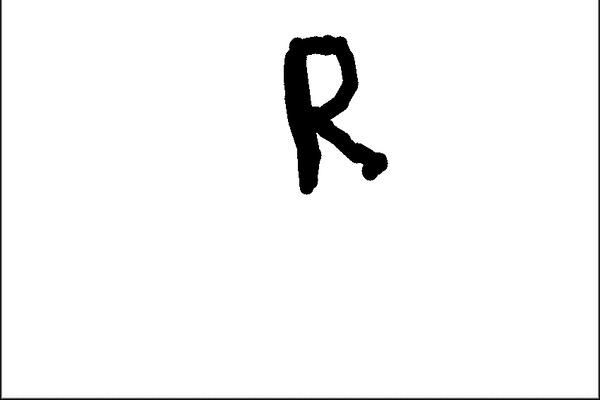R: (266, 25, 393, 203)
